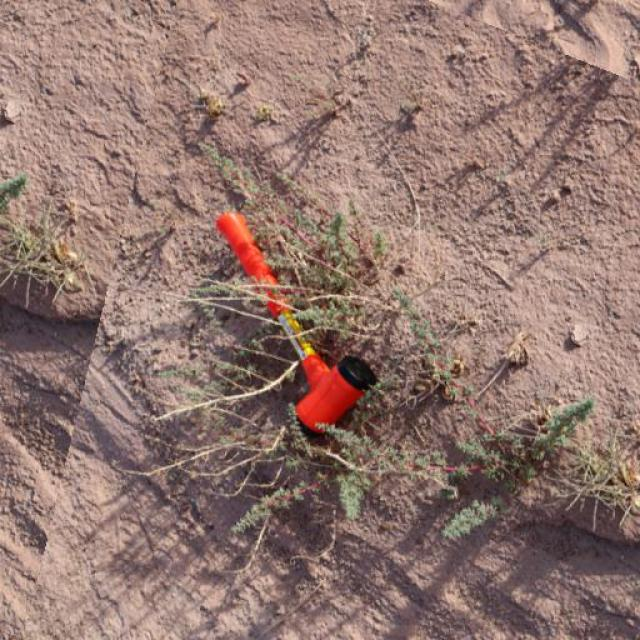mallet: (212, 209, 376, 436)
